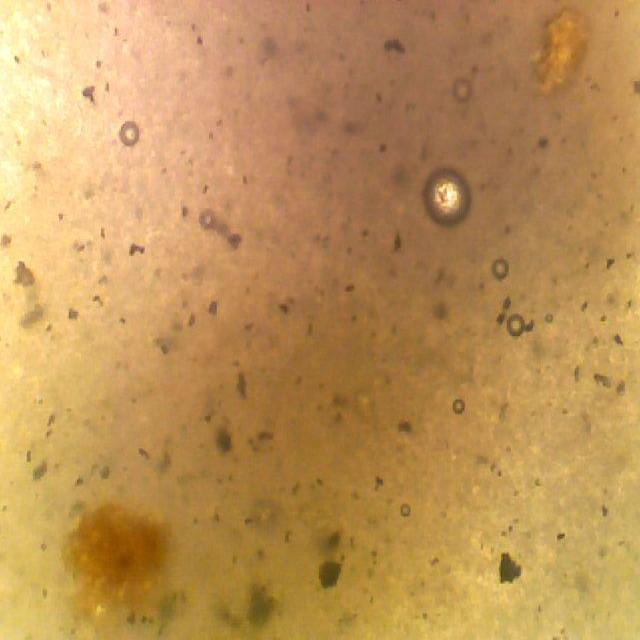microbeads: (419, 160, 476, 232), (115, 118, 145, 150), (486, 249, 514, 283), (506, 307, 530, 343), (452, 71, 476, 105), (200, 206, 220, 236)
